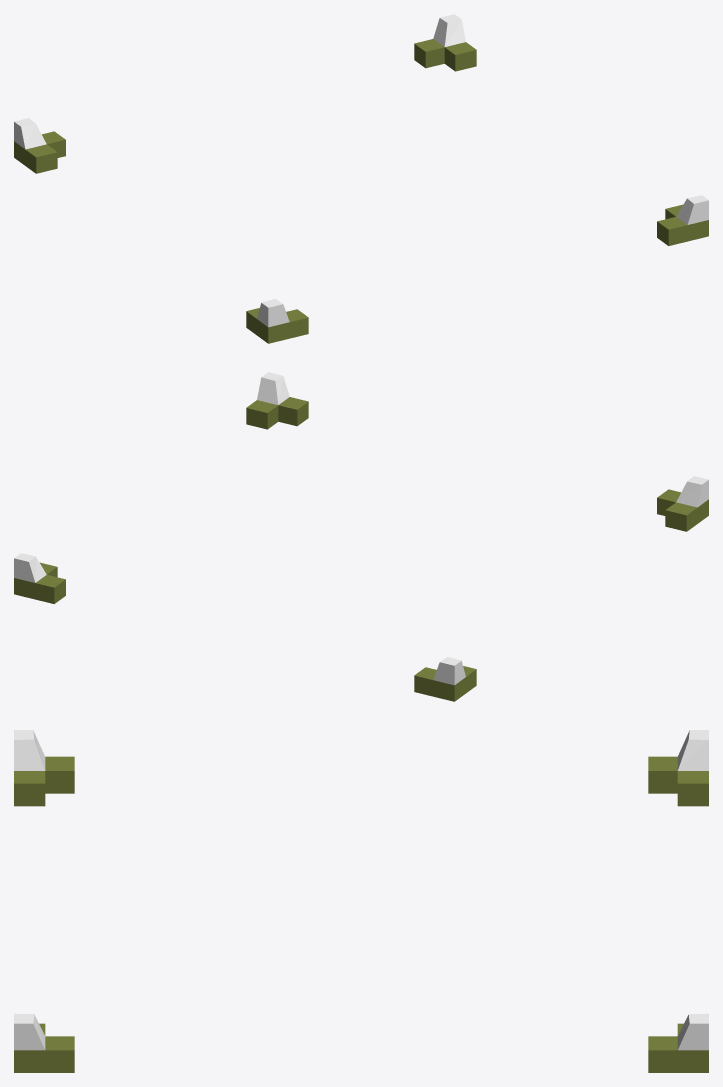
The model's file is Army Camp.fbx.
3 renders of one model, top to bottom at view 1: azimuth 30°, elevation 25°; view 2: azimuth 150°, elevation 25°; view 3: azimuth 270°, elevation 25°, orthographic. The views are drawn at different scales.
Parts seen in each view (by area): view 1: pCube3; view 2: pCube3; view 3: pCube3.
Part boxes in pixels (x1=…): pCube3: x1=14, y1=14, x2=708, y2=343; pCube3: x1=14, y1=372, x2=708, y2=701; pCube3: x1=14, y1=730, x2=708, y2=1072.
Size of the model in its own units: 4 by 0.3127 by 4.
